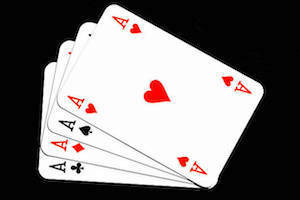AceOfClubs: (32, 156, 122, 187)
AceOfDiamonds: (33, 134, 133, 160)
AceOfHearts: (47, 3, 276, 120)
AceOfSpades: (42, 112, 131, 142)
